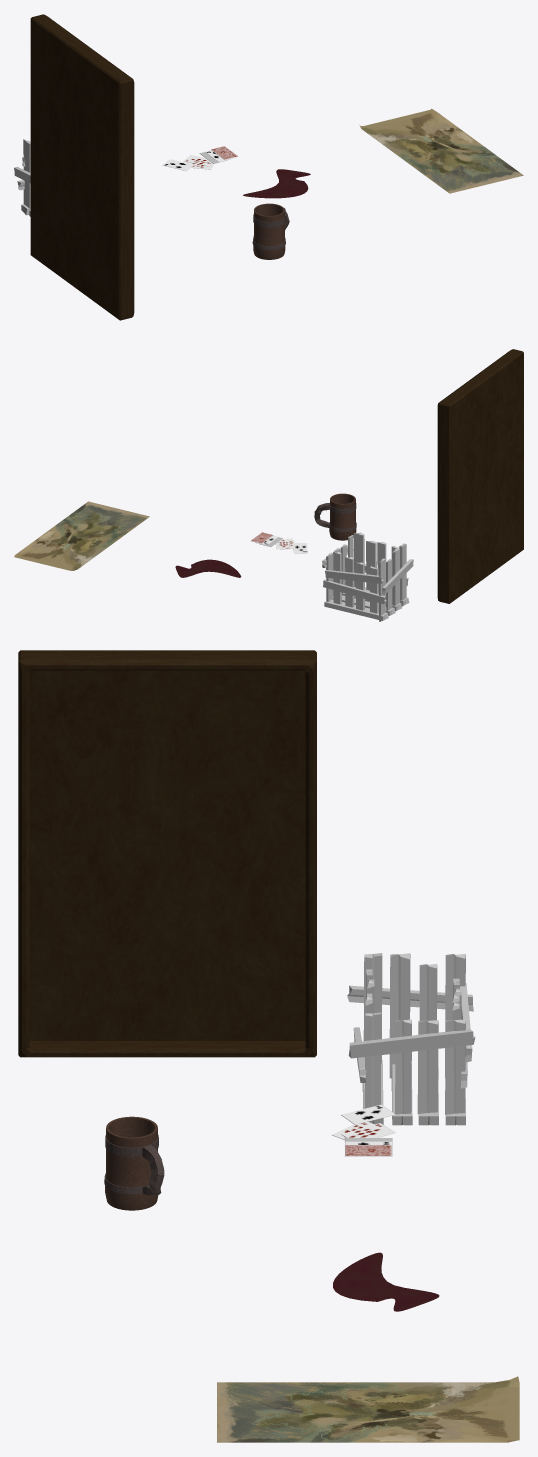
The model's file is clutter.fbx.
The picture shows the model from 3 angles, top to bottom: view 1: azimuth 30°, elevation 25°; view 2: azimuth 150°, elevation 25°; view 3: azimuth 270°, elevation 25°; orthographic projection. The views are drawn at different scales.
Visible parts, largest first — view 1: Cube.025, Plane.006, Circle, BézierCurve, Cube.008, Circle.001; view 2: Cube.025, Cube.008, Plane.006, Circle, BézierCurve, Circle.001; view 3: Cube.025, Plane.006, Cube.008, Circle, BézierCurve, Circle.001.
Boxes of the visible parts, x1=… form: Cube.025: x1=30, y1=14, x2=134, y2=320; Plane.006: x1=359, y1=108, x2=523, y2=193; Circle: x1=253, y1=203, x2=285, y2=259; BézierCurve: x1=243, y1=169, x2=310, y2=198; Cube.008: x1=14, y1=139, x2=30, y2=216; Circle.001: x1=252, y1=208, x2=289, y2=250; Cube.025: x1=437, y1=349, x2=523, y2=603; Cube.008: x1=322, y1=532, x2=413, y2=621; Plane.006: x1=14, y1=501, x2=149, y2=570; Circle: x1=329, y1=493, x2=356, y2=540; BézierCurve: x1=175, y1=559, x2=241, y2=577; Circle.001: x1=314, y1=503, x2=356, y2=532; Cube.025: x1=18, y1=650, x2=316, y2=1057; Plane.006: x1=217, y1=1376, x2=519, y2=1442; Cube.008: x1=347, y1=953, x2=475, y2=1125; Circle: x1=105, y1=1116, x2=158, y2=1210; BézierCurve: x1=333, y1=1252, x2=439, y2=1311; Circle.001: x1=104, y1=1134, x2=164, y2=1195.
Size of the model in its own units: 1250 by 643 by 702.
